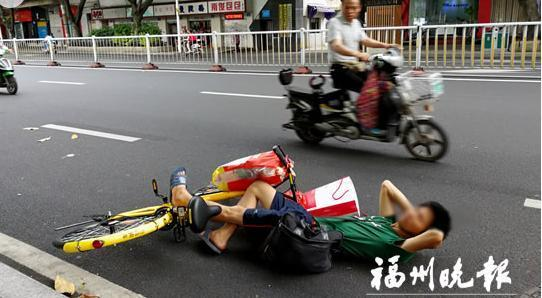Fall-Detected: (165, 154, 448, 275)
